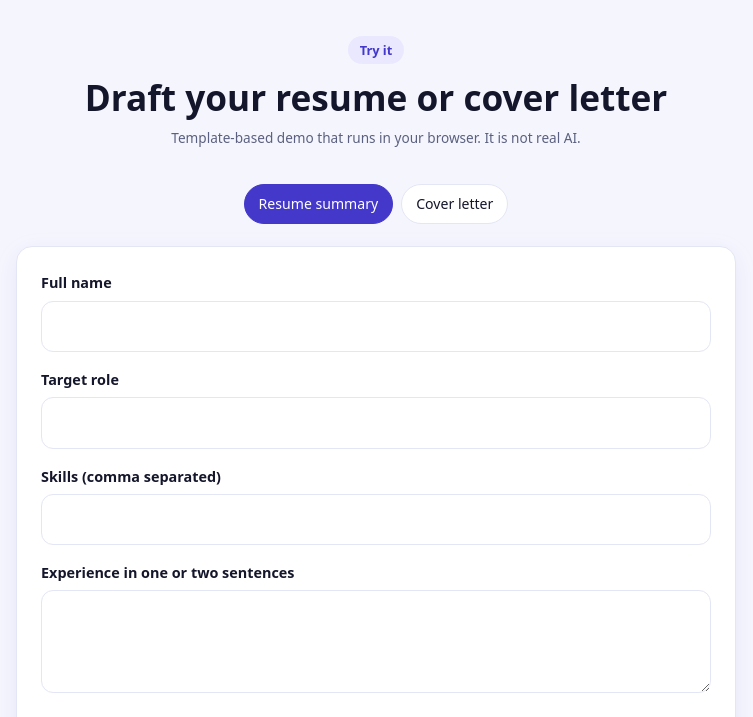
CareerCoach › generates a resume summary and copies it
Type "Ali Khan" into the field labelled "Full name" at (376, 326), box 41,300 -> 711,352
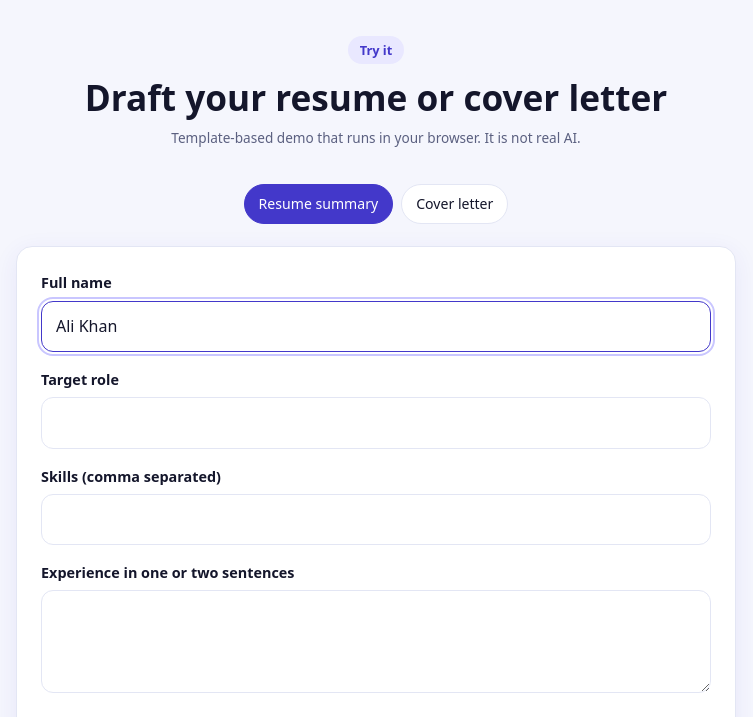
Type "Frontend Developer" into the field labelled "Target role" at (376, 423), box 41,397 -> 711,449
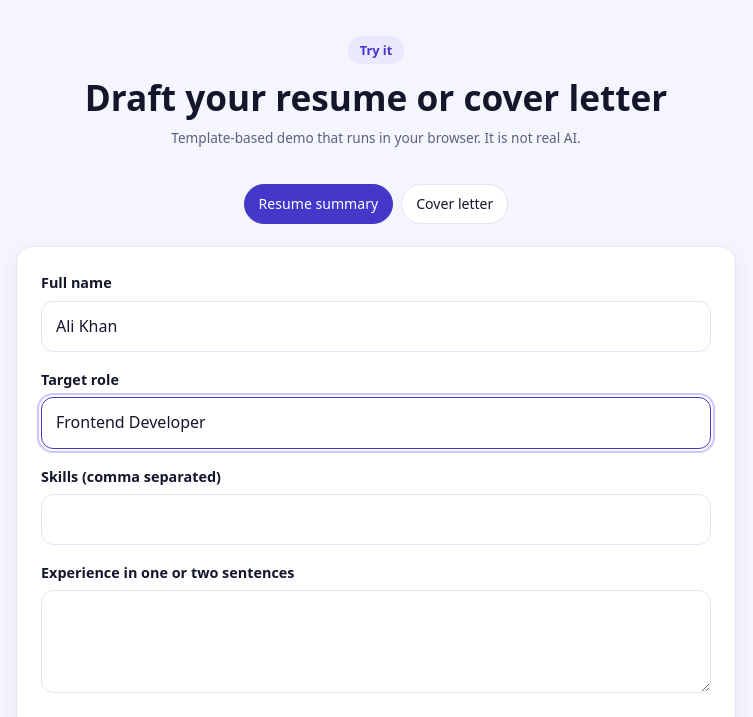
Type "React, CSS" into the field labelled "Skills (comma separated)" at (376, 520), box 41,494 -> 711,545
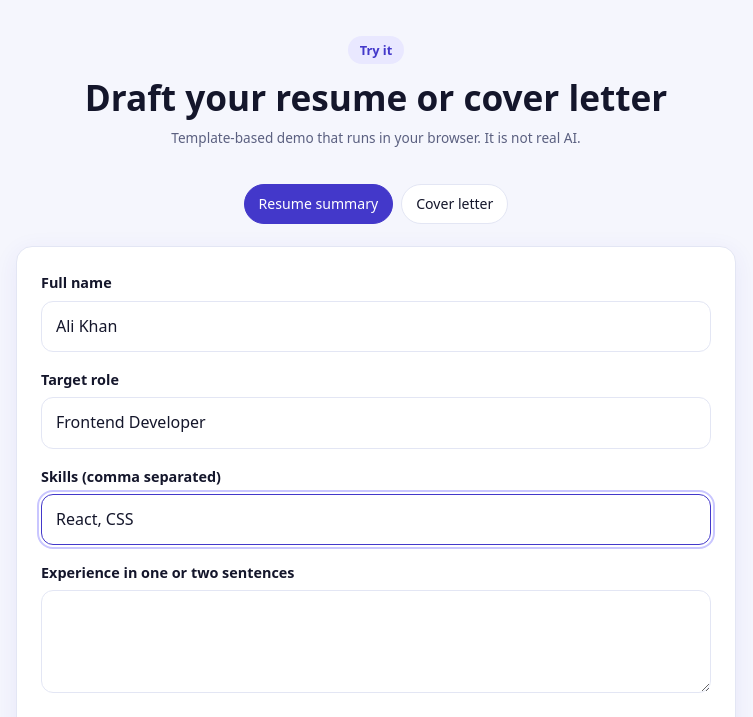
Type "Built three small projects." into the text box labelled "Experience in one or two sentences" at (376, 642), box 41,590 -> 711,693
(page scrolled)
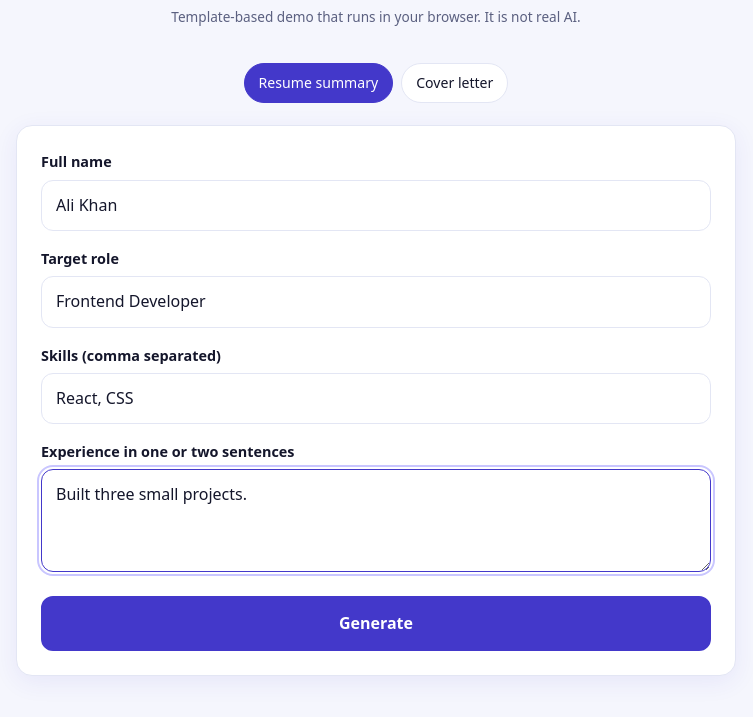
Click the button "Generate" at (376, 624), box 41,596 -> 711,651
(page scrolled)
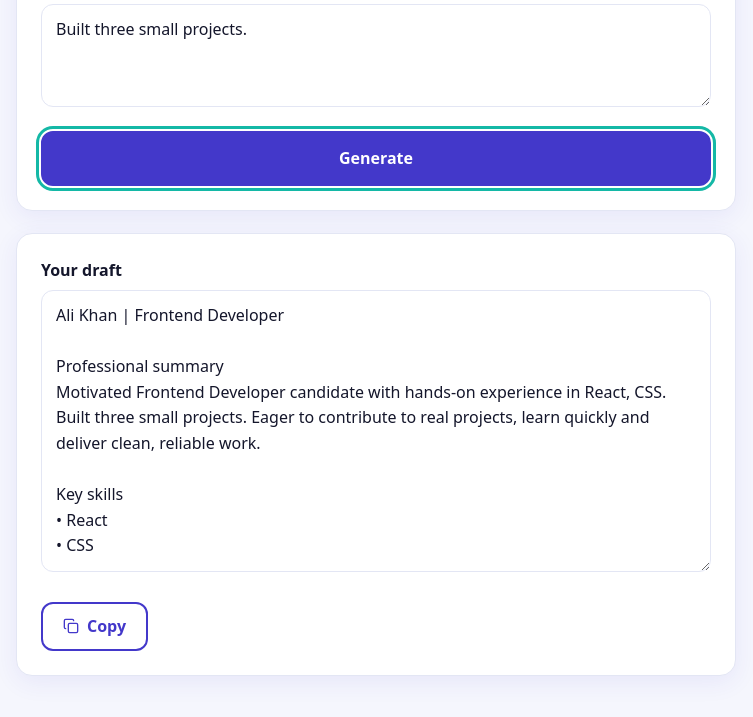
Click the button "Copy" at (94, 626), box 41,602 -> 148,651
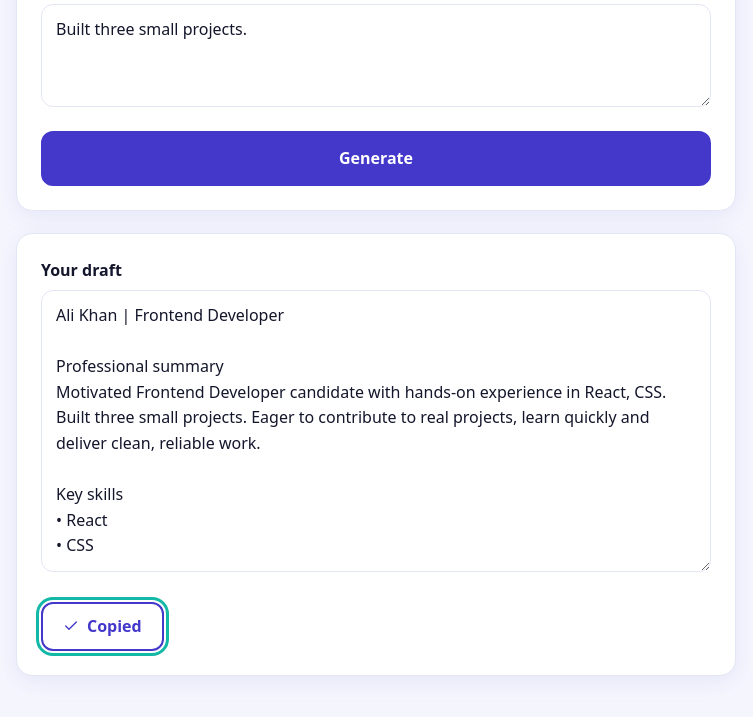
Result: the button "Copied" is shown at 41,602 -> 164,651
